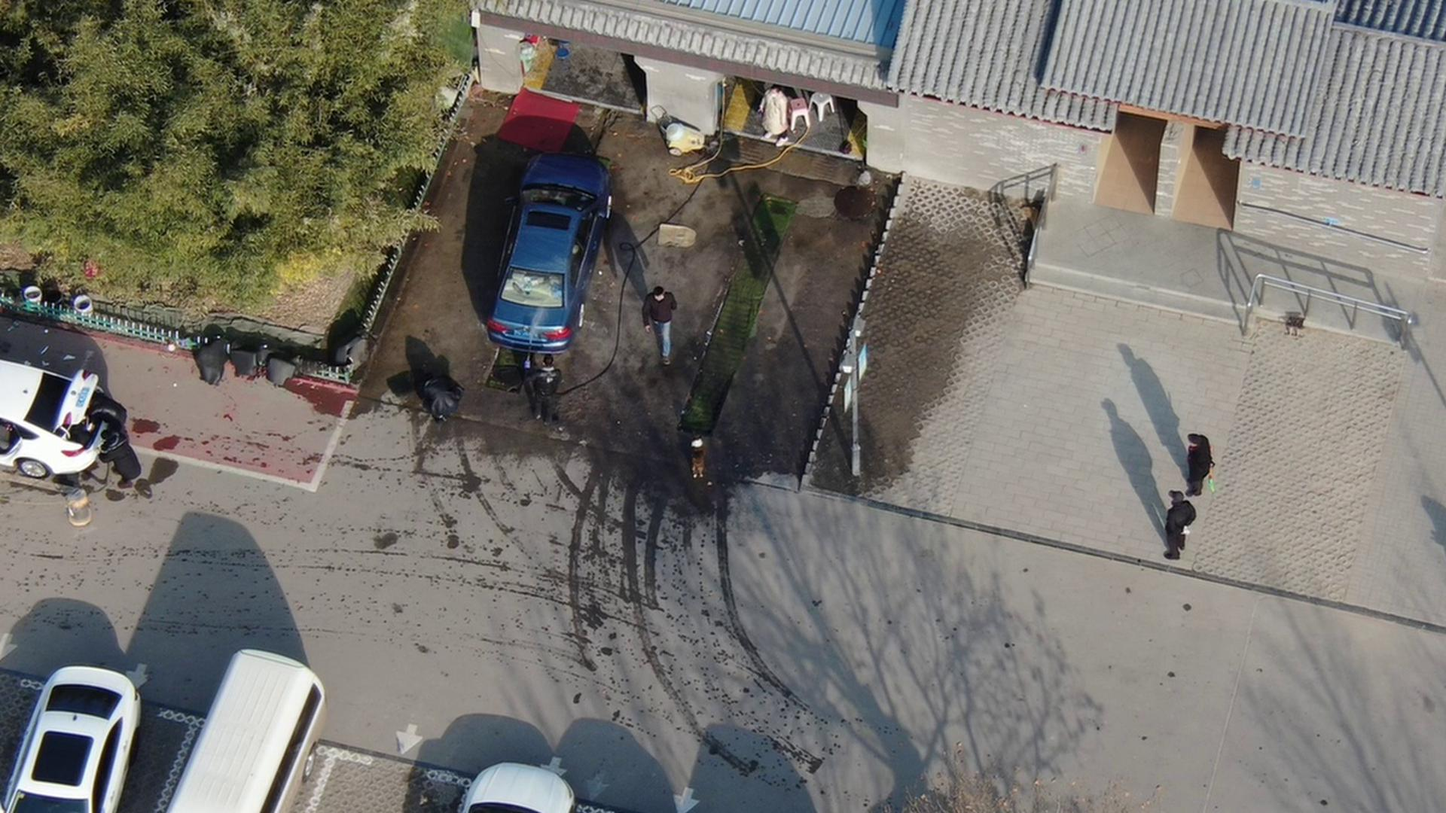human: (522, 348, 567, 425), (1158, 489, 1200, 568), (636, 282, 680, 351), (101, 427, 148, 486), (91, 385, 137, 440), (1178, 431, 1213, 501), (421, 365, 465, 418), (753, 81, 791, 138)
